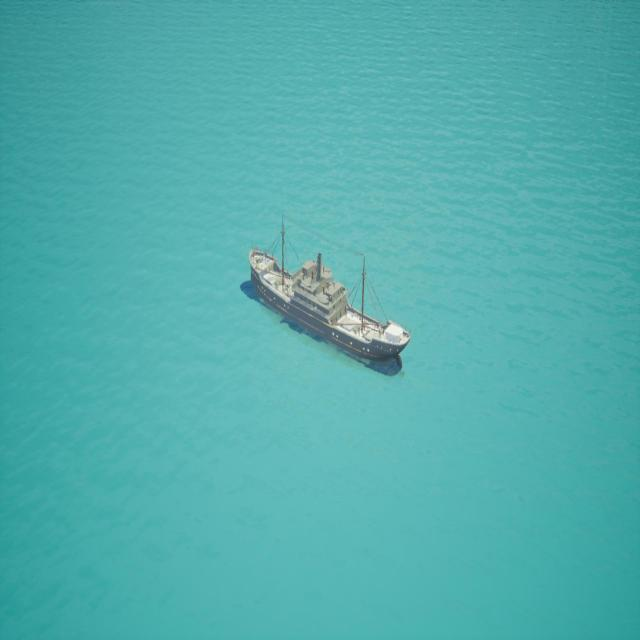fishing ship: (245, 224, 411, 378)
